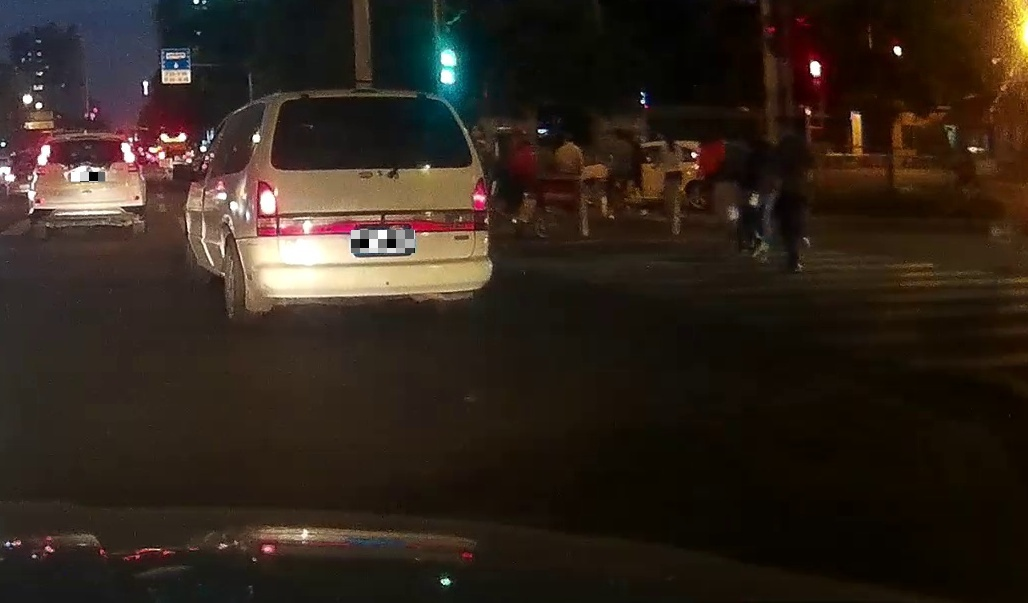L_light: (258, 181, 279, 236), (37, 145, 51, 166)
R_light: (472, 177, 490, 230), (120, 142, 136, 163)
T_light: (348, 96, 386, 105), (78, 140, 103, 146)
night-no: (252, 88, 491, 328), (28, 135, 146, 239)
plate_1: (71, 172, 105, 182)
plate_2: (351, 230, 415, 253)
